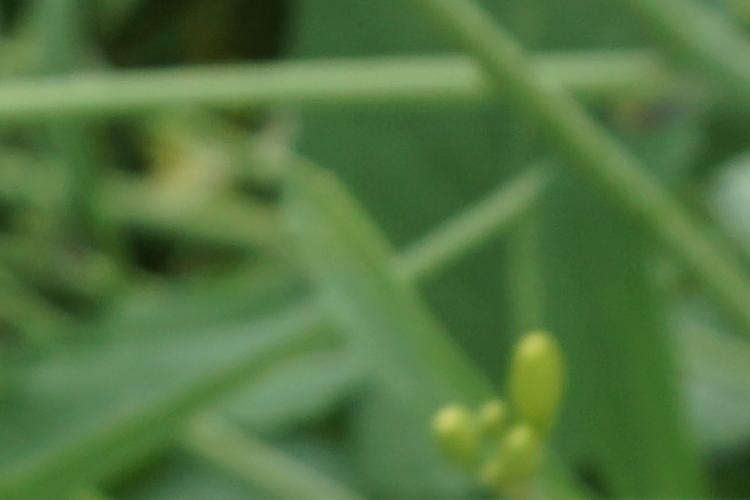bud: (504, 328, 575, 427), (428, 404, 482, 473), (496, 423, 550, 480), (467, 390, 509, 445)
